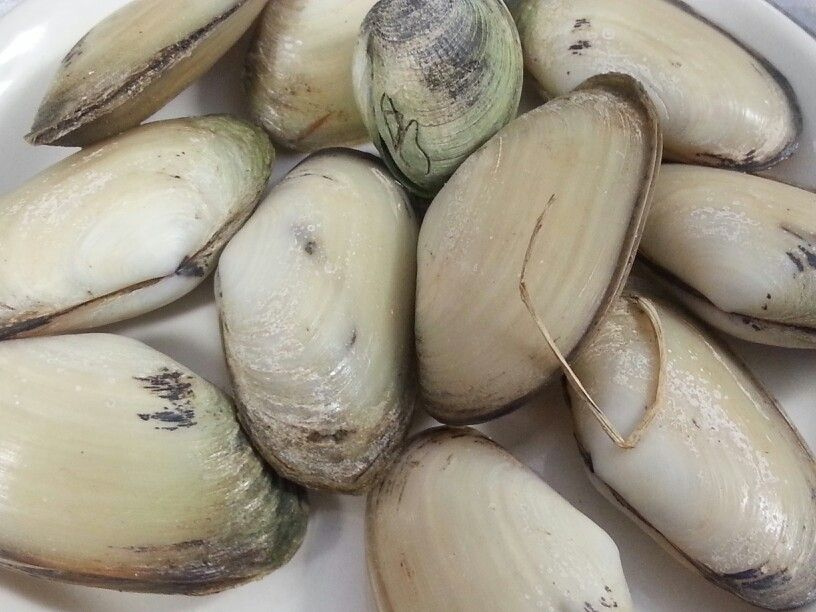tuatua: (567, 269, 812, 612), (1, 331, 315, 597), (413, 79, 650, 425), (213, 143, 407, 499), (1, 113, 281, 345), (368, 418, 639, 612), (515, 1, 806, 168), (22, 1, 266, 154), (642, 153, 816, 349)
